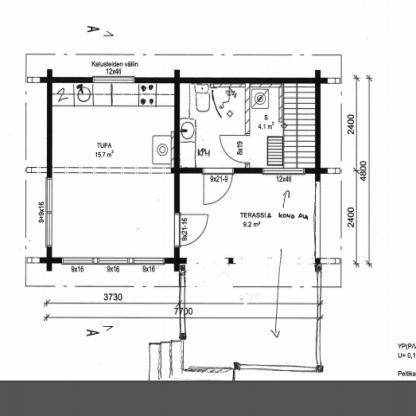door: (171, 213, 214, 250), (201, 166, 237, 206), (217, 132, 253, 166)
window: (58, 254, 167, 268), (42, 175, 57, 250), (258, 163, 308, 180), (87, 73, 138, 88)
